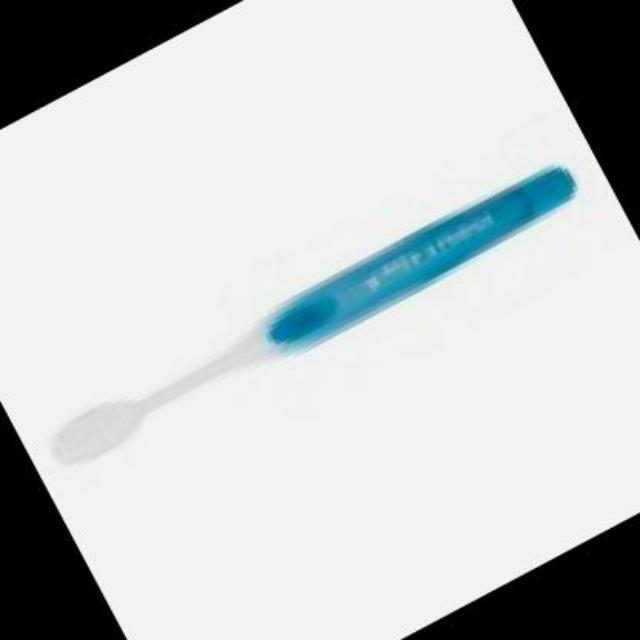toothbrush: (21, 134, 576, 496)
